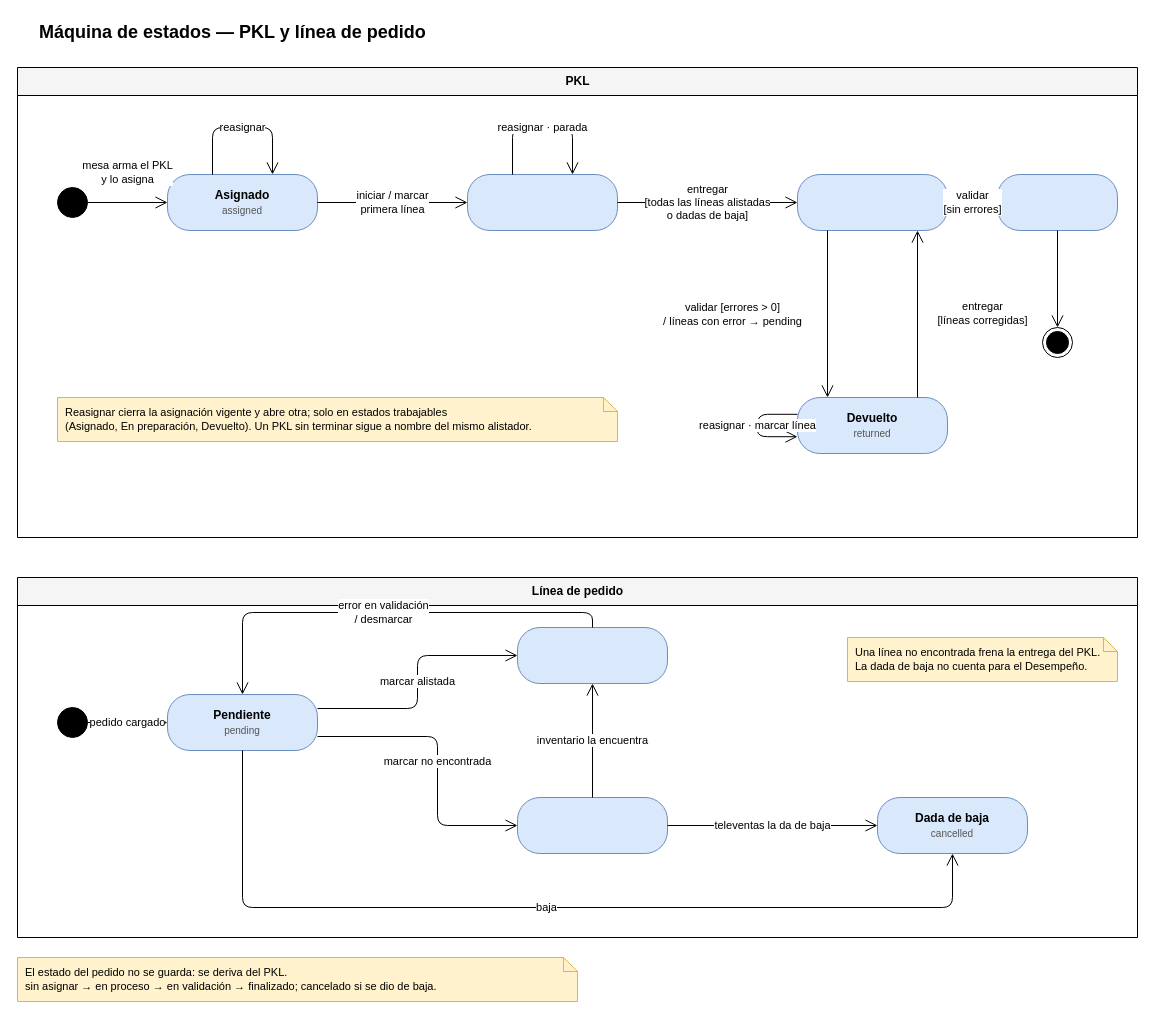
This 1155x1019 diagram has some shape labels left out. Here are the shapes that lost their labels. From the top down, the centre of each, then its label:
At point 542,202: "En preparación picking".
At point 872,202: "En validación validating".
At point 1057,202: "Finalizado done".
At point 592,655: "Alistada picked".
At point 592,825: "No encontrada not_found".
